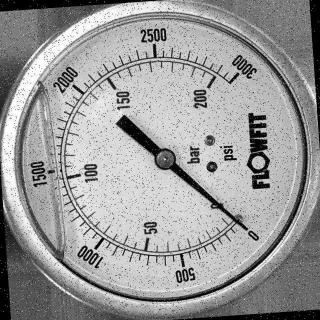gauge: (0, 0, 320, 320), (230, 210, 260, 244), (219, 61, 251, 90), (152, 147, 177, 171), (235, 218, 252, 235)
